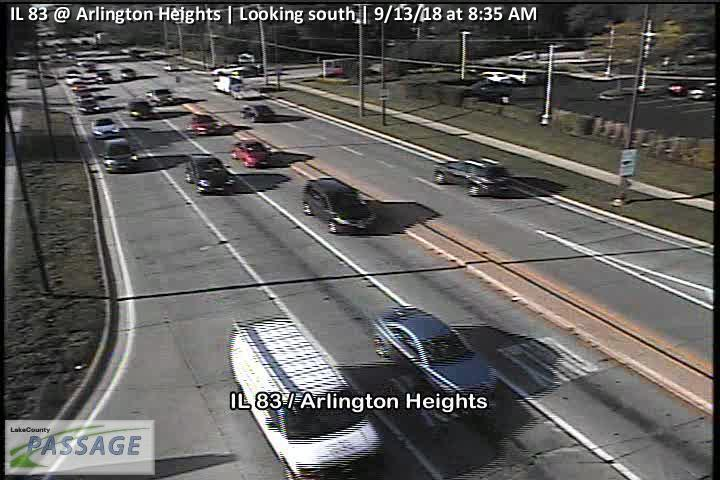SUV: (228, 314, 383, 480), (304, 177, 379, 235), (432, 158, 511, 197), (185, 157, 235, 193), (101, 137, 136, 174)
Sedan: (370, 309, 497, 408), (232, 138, 271, 170), (91, 117, 121, 139), (240, 105, 276, 123), (192, 115, 221, 136), (152, 88, 174, 106), (80, 97, 99, 115)
